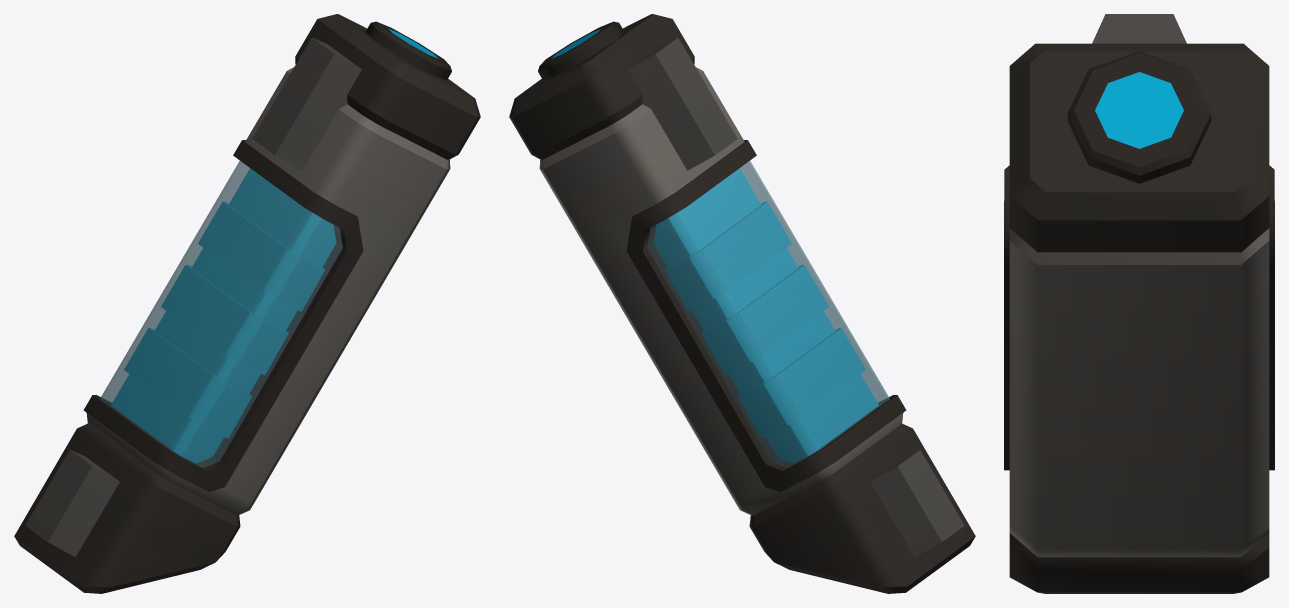
File: SMG5_Magazine.fbx
The picture shows the model from 3 angles, left to right: view 1: azimuth 30°, elevation 25°; view 2: azimuth 150°, elevation 25°; view 3: azimuth 270°, elevation 25°; orthographic projection. The views are drawn at different scales.
Visible parts, largest first — view 1: SMG5_Magazine; view 2: SMG5_Magazine; view 3: SMG5_Magazine.
Boxes of the visible parts, left/top/right/bottom form: SMG5_Magazine: left=14, top=14, right=480, bottom=593; SMG5_Magazine: left=509, top=14, right=975, bottom=593; SMG5_Magazine: left=1004, top=14, right=1274, bottom=593.
Size of the model in its own units: 8.73 by 9.36 by 3.32.
